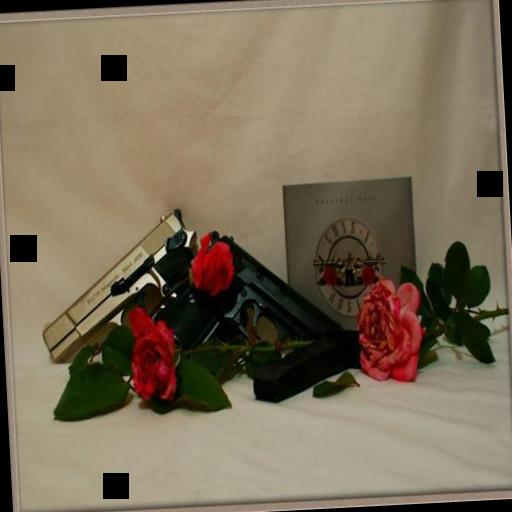Handgun: (27, 196, 199, 382), (158, 222, 344, 386)
